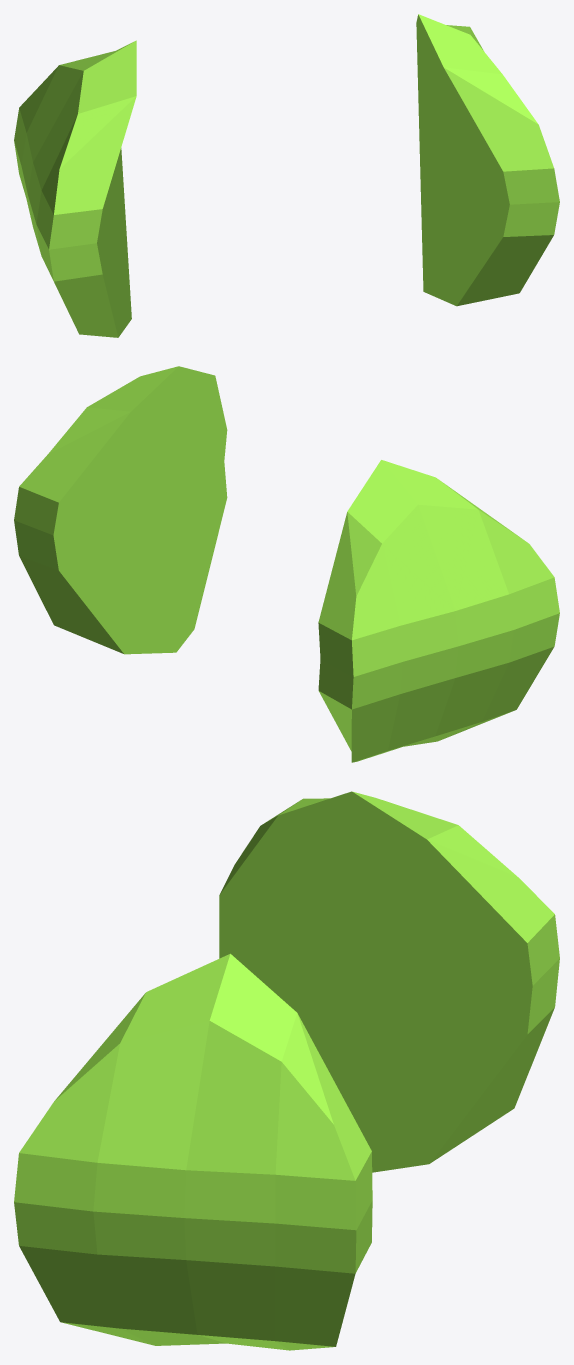
The model's file is SimpleShield.fbx.
The picture shows the model from 3 angles, top to bottom: view 1: azimuth 30°, elevation 25°; view 2: azimuth 150°, elevation 25°; view 3: azimuth 270°, elevation 25°; orthographic projection. The views are drawn at different scales.
Parts seen in each view (by area): view 1: Cube; view 2: Cube; view 3: Cube.
Boxes of the visible parts, x1,y1,x2,y2 form: Cube: (14,14,559,337); Cube: (14,366,559,762); Cube: (14,791,559,1350).
Bounding box in the file's own units: 516 × 284 × 363.
